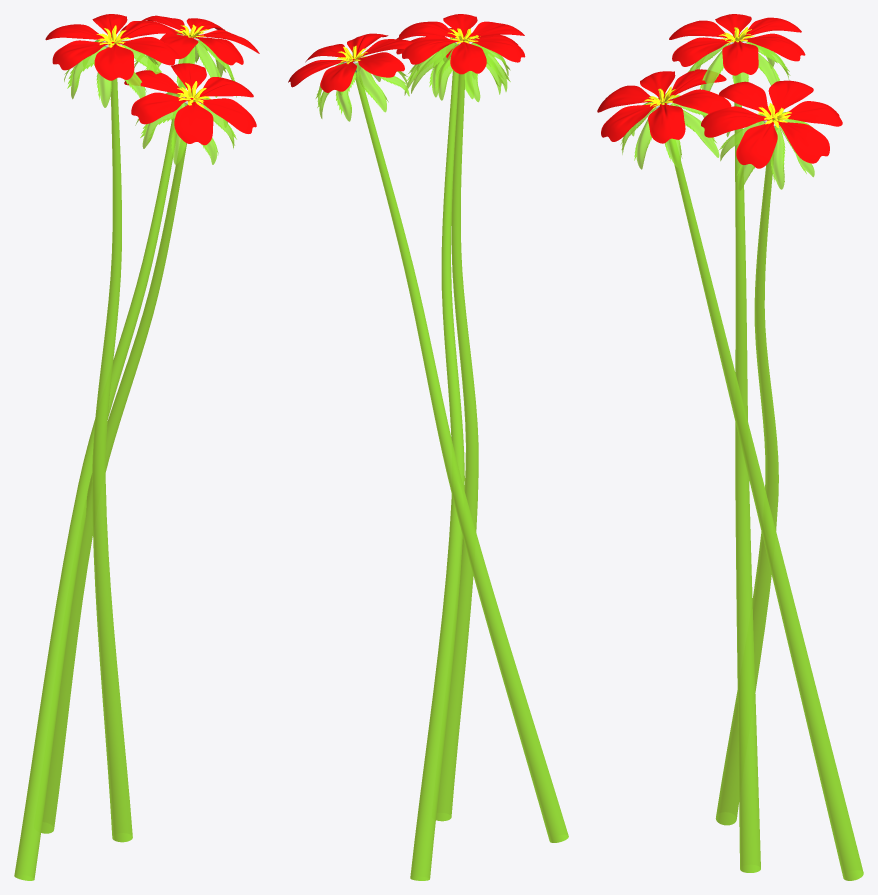
The model's file is Flowers.fbx.
3 views of the same model, side by side, from view 1: azimuth 30°, elevation 25°; view 2: azimuth 150°, elevation 25°; view 3: azimuth 270°, elevation 25° (orthographic). The views are drawn at different scales.
Visible parts, largest first — view 1: Loft_2, Loft_3, Loft, Plane_1, Plane_1_5, Plane_6, Plane_2, Plane_6_5, Plane_2_5, Plane_3, Plane_5, Plane_3_9 (+5 smaller); view 2: Loft_3, Loft, Loft_2, Plane_5_5, Plane_4_5, Plane_1_9, Plane_6_9, Plane_6_5, Plane_3_5, Plane_1_12, Plane_1_5, Plane_5_9; view 3: Loft, Loft_2, Loft_3, Plane_4_9, Plane_5_9, Plane_3_9, Plane_3, Plane_3_5, Plane_2, Plane_6_9, Plane_2_9, Plane_2_5 (+10 smaller).
Boxes of the visible parts, x1=… form: Loft_2: x1=92, y1=78, x2=132, y2=842; Loft_3: x1=14, y1=117, x2=175, y2=880; Loft: x1=41, y1=143, x2=186, y2=833; Plane_1: x1=174, y1=101, x2=213, y2=145; Plane_1_5: x1=94, y1=44, x2=134, y2=80; Plane_6: x1=131, y1=92, x2=189, y2=124; Plane_2: x1=195, y1=98, x2=256, y2=133; Plane_6_5: x1=52, y1=40, x2=109, y2=70; Plane_2_5: x1=117, y1=37, x2=179, y2=65; Plane_3: x1=188, y1=77, x2=253, y2=101; Plane_5: x1=124, y1=70, x2=192, y2=99; Plane_3_9: x1=193, y1=37, x2=243, y2=65; Loft_3: x1=355, y1=72, x2=568, y2=842; Loft: x1=410, y1=70, x2=464, y2=880; Loft_2: x1=436, y1=74, x2=478, y2=821; Plane_5_5: x1=450, y1=41, x2=486, y2=74; Plane_4_5: x1=402, y1=36, x2=459, y2=64; Plane_1_9: x1=357, y1=52, x2=404, y2=77; Plane_6_9: x1=320, y1=60, x2=356, y2=92; Plane_6_5: x1=469, y1=36, x2=525, y2=62; Plane_3_5: x1=399, y1=21, x2=463, y2=40; Plane_1_12: x1=355, y1=62, x2=388, y2=112; Plane_1_5: x1=468, y1=21, x2=524, y2=37; Plane_5_9: x1=288, y1=59, x2=352, y2=87; Loft: x1=674, y1=160, x2=863, y2=880; Loft_2: x1=734, y1=102, x2=760, y2=872; Loft_3: x1=715, y1=158, x2=778, y2=825; Plane_4_9: x1=736, y1=121, x2=777, y2=168; Plane_5_9: x1=777, y1=121, x2=829, y2=163; Plane_3_9: x1=701, y1=106, x2=773, y2=137; Plane_3: x1=648, y1=103, x2=685, y2=143; Plane_3_5: x1=722, y1=41, x2=758, y2=75; Plane_2: x1=601, y1=103, x2=657, y2=141; Plane_6_9: x1=767, y1=101, x2=842, y2=126; Plane_2_9: x1=719, y1=81, x2=770, y2=115; Plane_2_5: x1=672, y1=37, x2=731, y2=66.
Size of the model in its own units: 406 by 1272 by 360.
